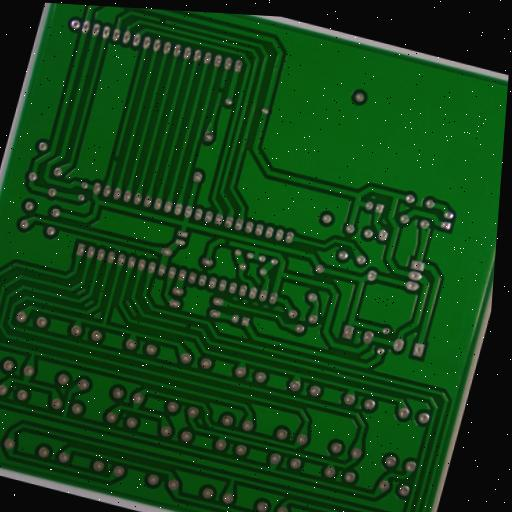open_circuit: (182, 320, 195, 334), (156, 14, 171, 26), (214, 84, 227, 96), (221, 236, 234, 248), (111, 151, 122, 165)
